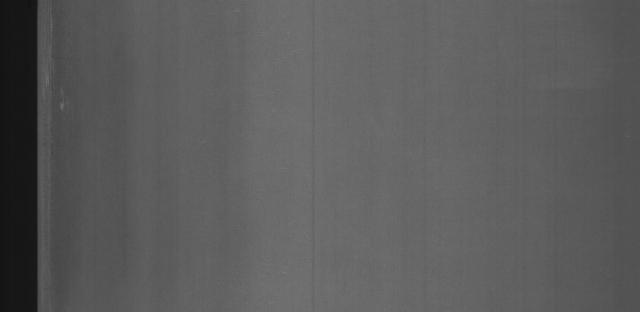silk_spot: (42, 21, 77, 138)
